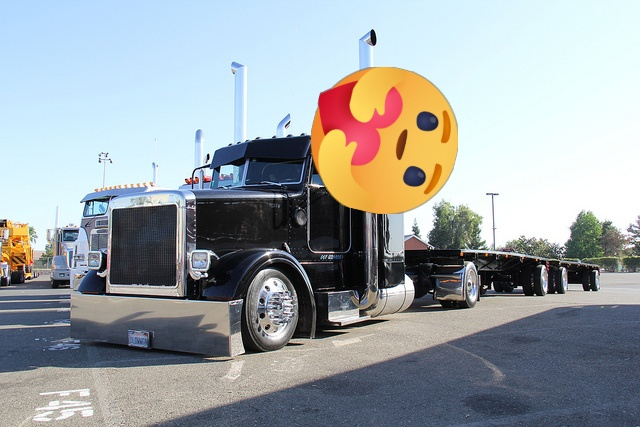care: (311, 67, 458, 214)
